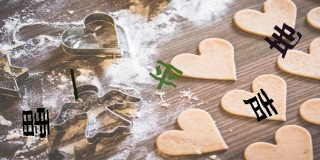一: (68, 68, 80, 100)
地: (265, 22, 302, 57)
声: (244, 89, 278, 123)
平: (149, 60, 183, 90)
雷: (22, 106, 51, 138)
